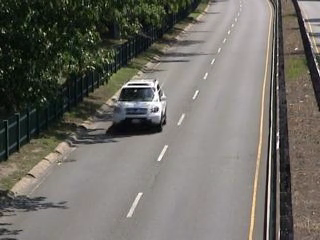car: (107, 76, 169, 133)
